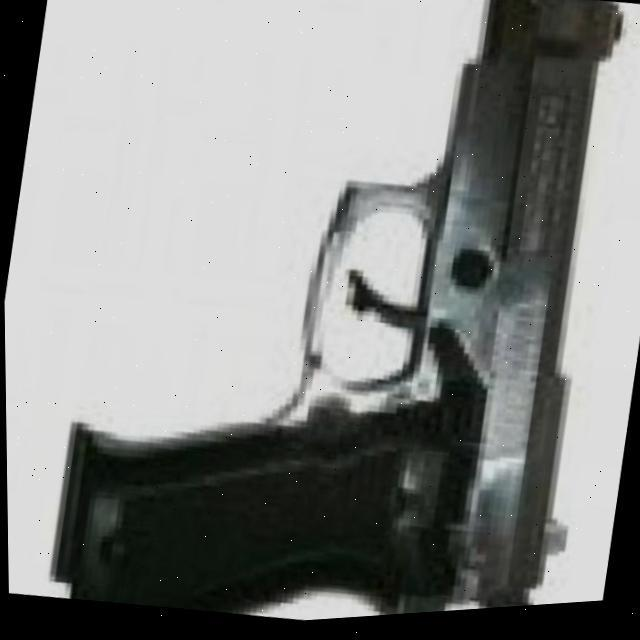gun: (37, 0, 640, 638)
